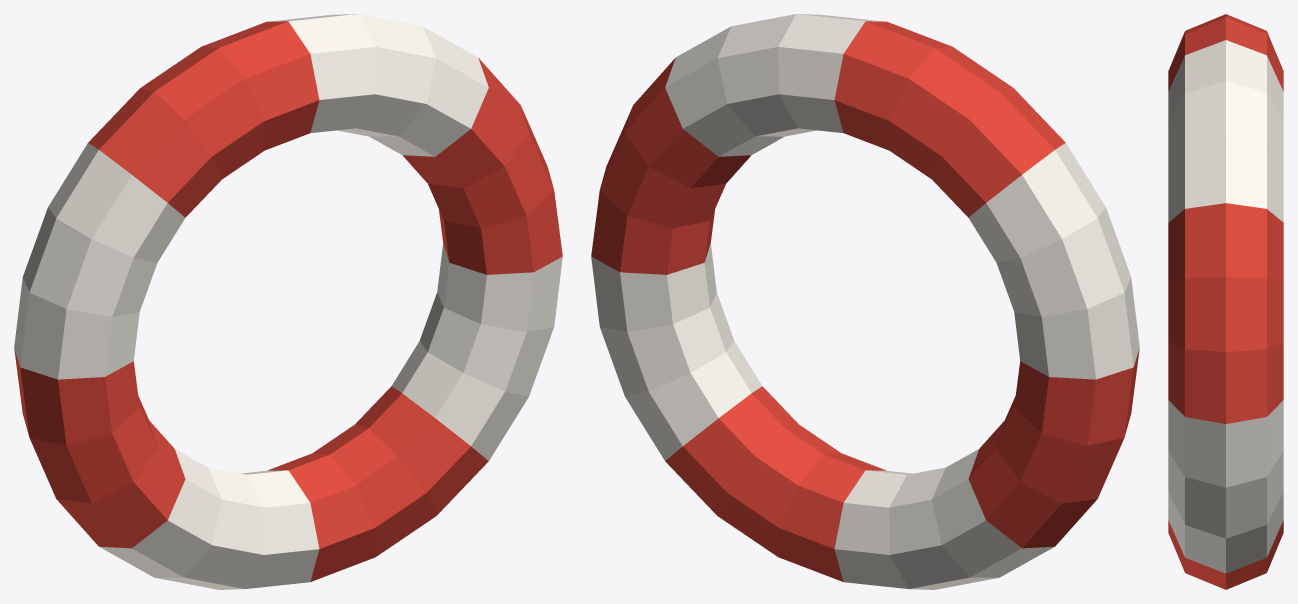
File: life-ring.glb
3 views of the same model, side by side, from view 1: azimuth 30°, elevation 25°; view 2: azimuth 150°, elevation 25°; view 3: azimuth 270°, elevation 25° (orthographic). The views are drawn at different scales.
Parts seen in each view (by area): view 1: life-ring; view 2: life-ring; view 3: life-ring.
Boxes of the visible parts, x1=… form: life-ring: x1=14, y1=14, x2=562, y2=589; life-ring: x1=591, y1=14, x2=1139, y2=589; life-ring: x1=1168, y1=14, x2=1283, y2=589.
Bounding box in the file's own units: 0.9 × 0.9 × 0.18.
